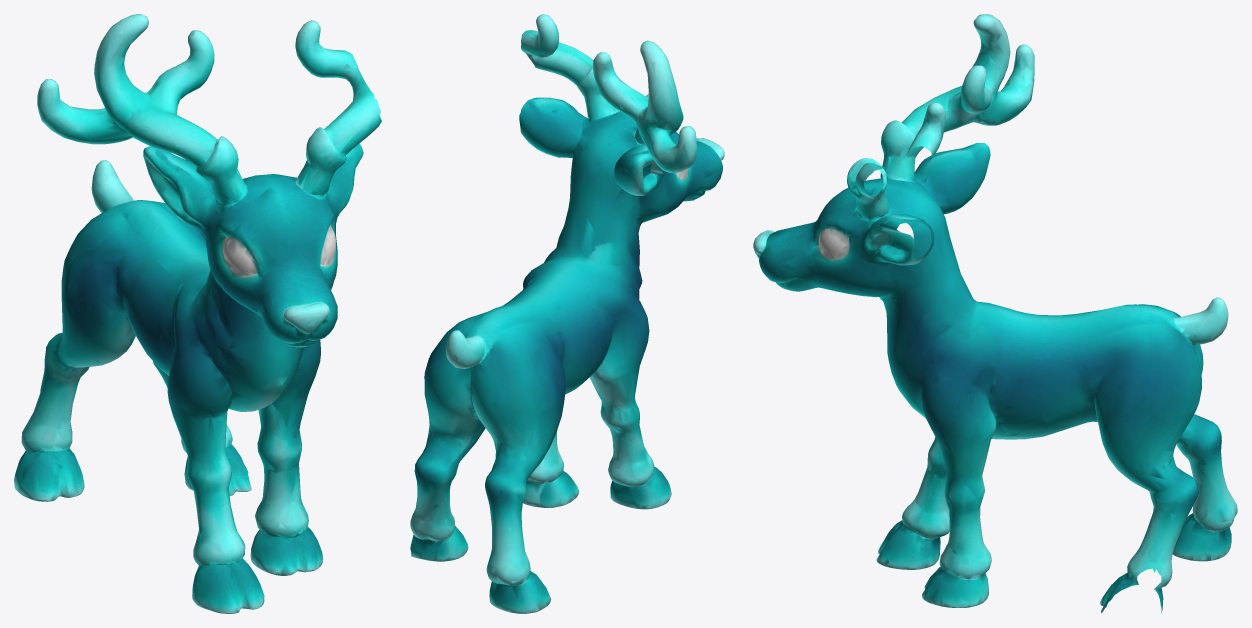
File: wyrex_ciervo.glb
3 renders of one model, left to right at view 1: azimuth 30°, elevation 25°; view 2: azimuth 150°, elevation 25°; view 3: azimuth 270°, elevation 25°, orthographic. The views are drawn at different scales.
Parts seen in each view (by area): view 1: geometry_0; view 2: geometry_0; view 3: geometry_0.
Boxes of the visible parts, bbox=[...] form: geometry_0: bbox=[14, 14, 381, 613]; geometry_0: bbox=[410, 14, 724, 613]; geometry_0: bbox=[753, 14, 1237, 613].
Bounding box in the file's own units: 0.4741 × 1 × 0.8461.
1 material, 1 textured.
